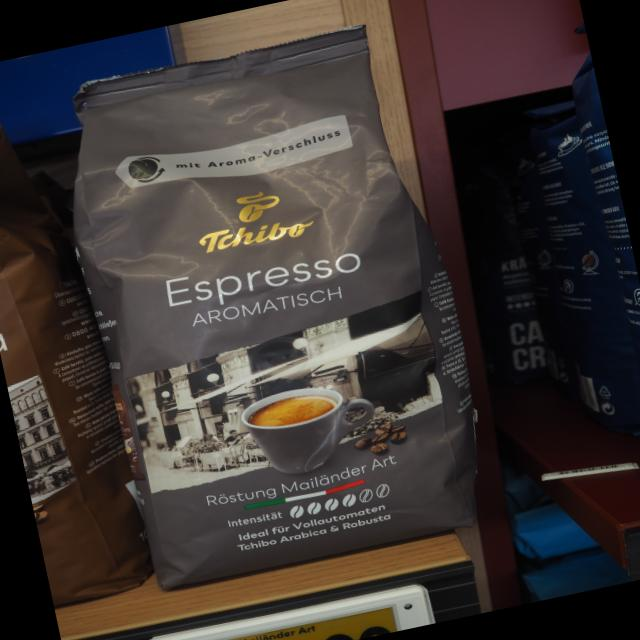Espresso Aromatisch: (32, 8, 514, 604)
